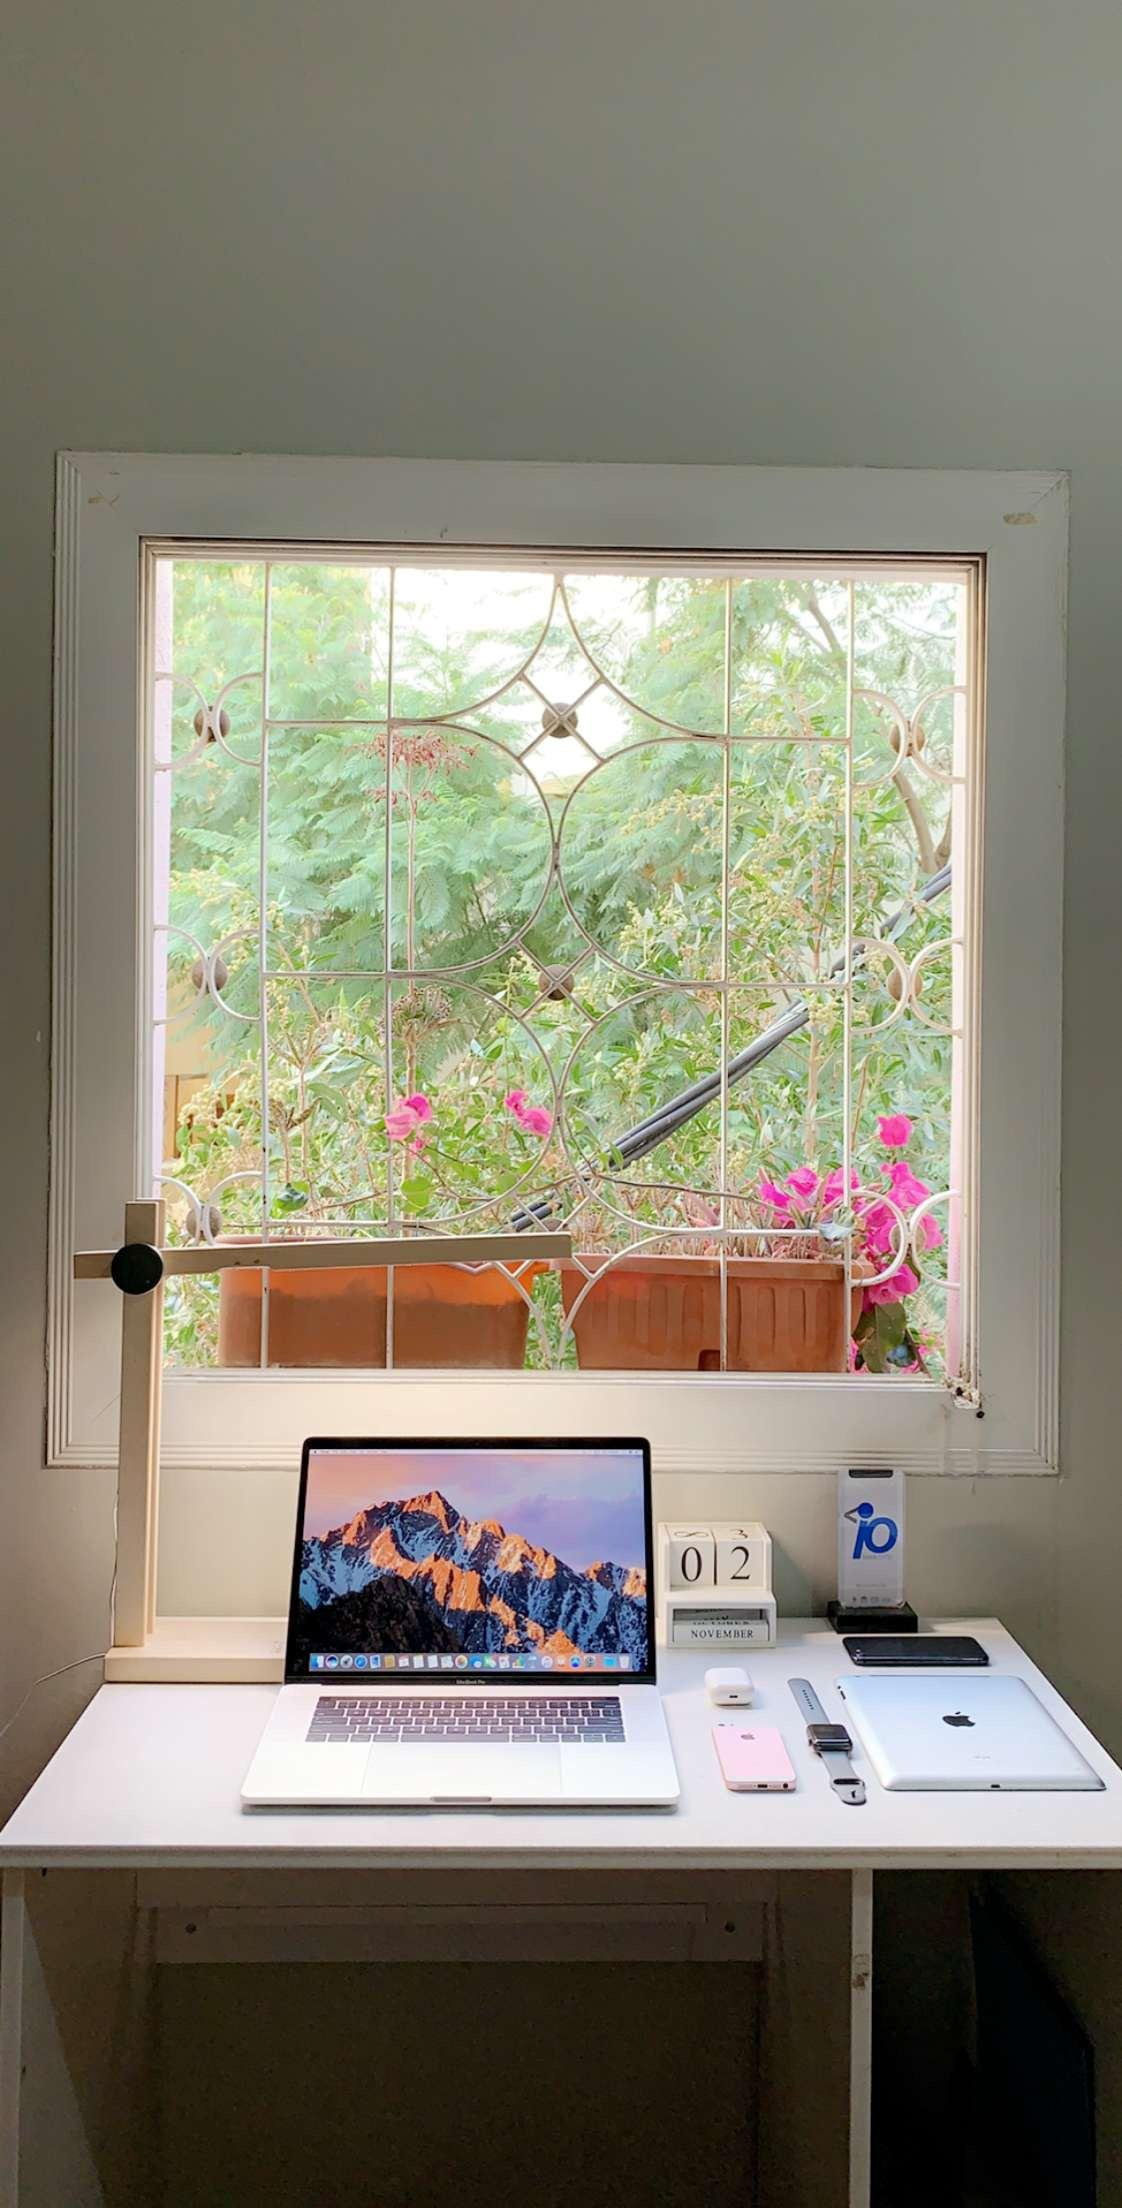Airpods (Apple): (698, 1659, 758, 1714)
Cellphone: (707, 1719, 797, 1796), (841, 1634, 987, 1669)
Decoration (Watch): (781, 1664, 869, 1814)
Desk (Generic): (1, 1614, 1115, 1885)
Laptop (OSX): (246, 1424, 680, 1812)
Monitor (Laptop): (293, 1440, 658, 1686)
Tablet (iPad): (829, 1666, 1102, 1804)
